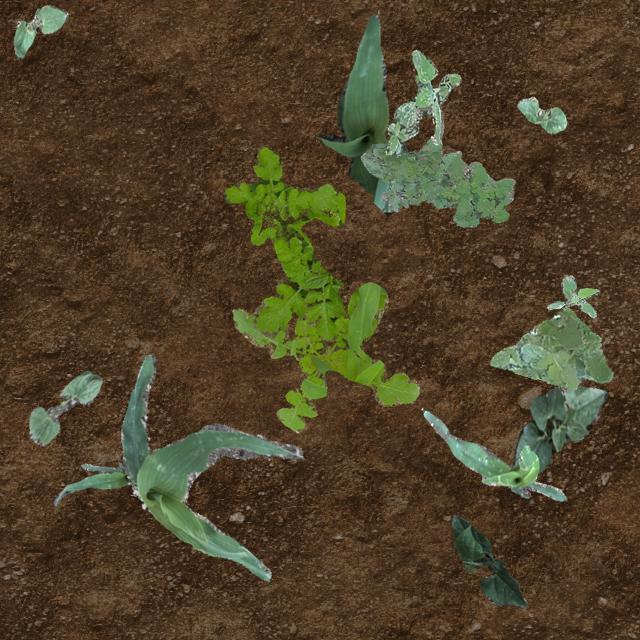crop: (120, 353, 302, 580), (314, 12, 406, 214), (424, 410, 564, 500), (512, 384, 606, 472), (450, 514, 526, 606), (28, 370, 102, 444), (52, 461, 130, 505), (12, 3, 66, 58), (516, 96, 566, 132)
weed: (232, 282, 418, 432), (223, 146, 344, 340), (360, 137, 514, 226), (489, 306, 612, 388), (384, 48, 461, 154), (546, 274, 598, 316)
